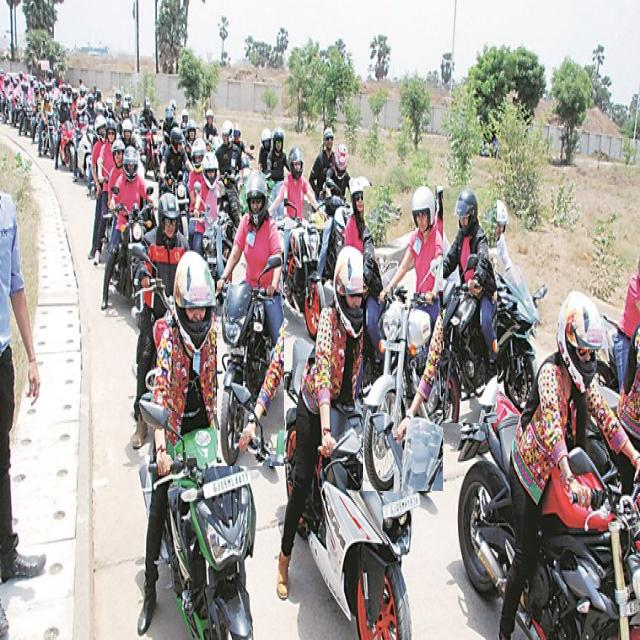motorcycle: (458, 292, 640, 638), (276, 247, 419, 638), (138, 252, 269, 638), (364, 187, 443, 491), (218, 171, 284, 466), (424, 189, 497, 423), (471, 200, 540, 408), (268, 146, 325, 338)
